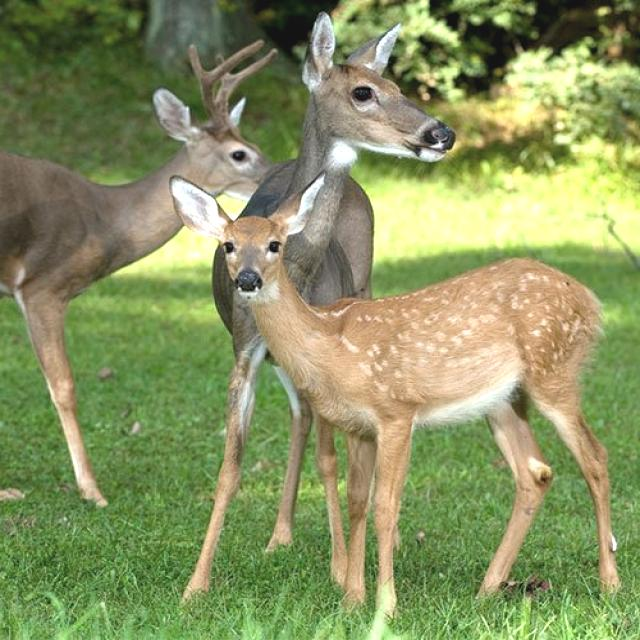deer: (158, 172, 636, 612), (0, 30, 274, 227), (274, 5, 478, 214)
